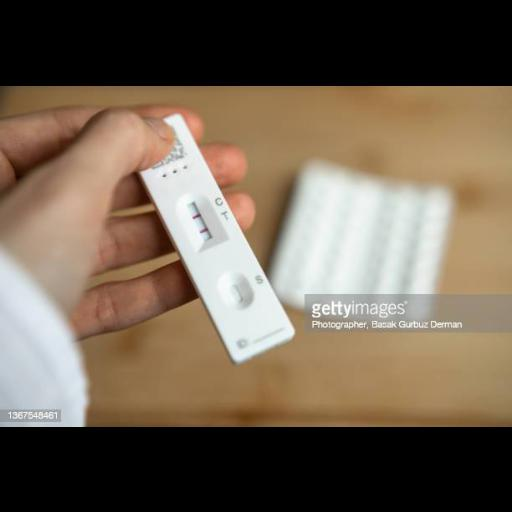Pos: (118, 110, 298, 361)
